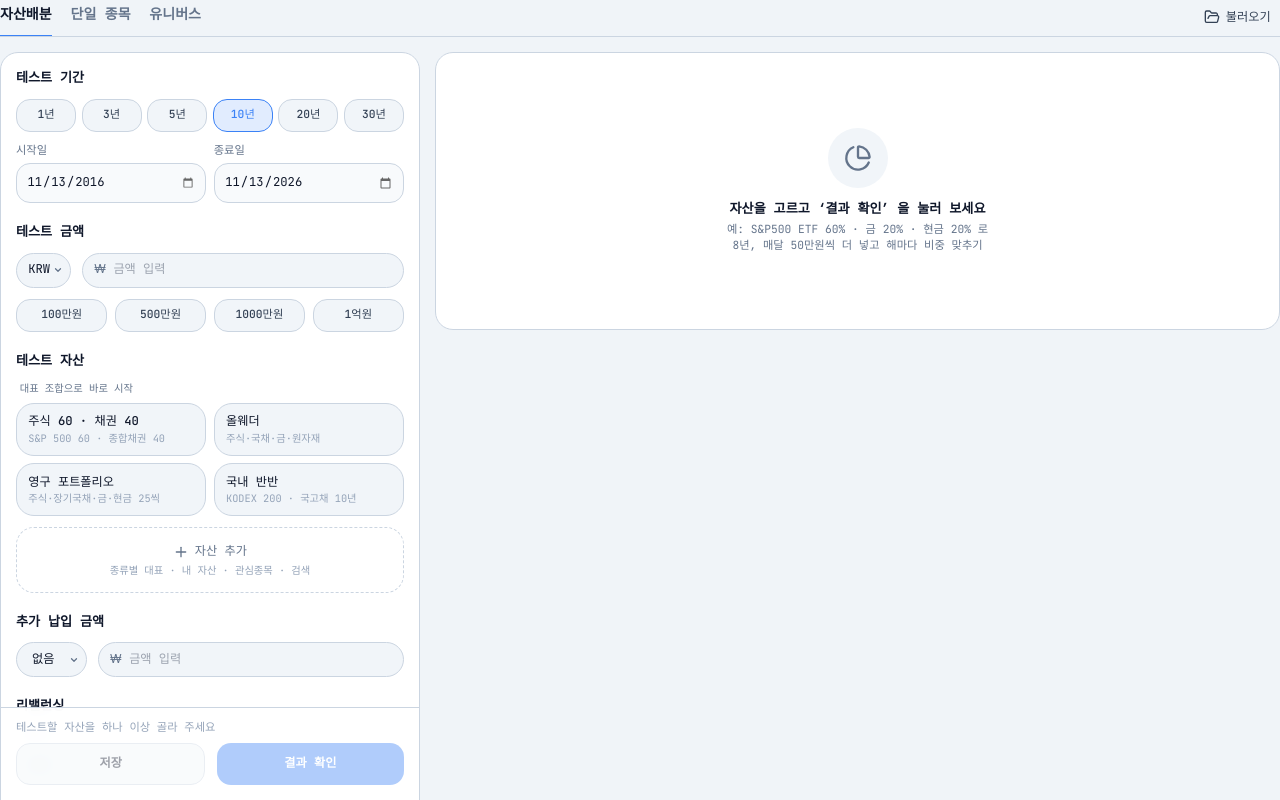
불러오기 창에 둘 다 모인다 › 누르면 창이 닫히고 그 설정이 들어와 있다 — 접힌 고급 설정에도 '바꿈' 이 보인다
Click the button "불러오기" at (1237, 17), box x1=1195 y1=3 x2=1279 y2=32
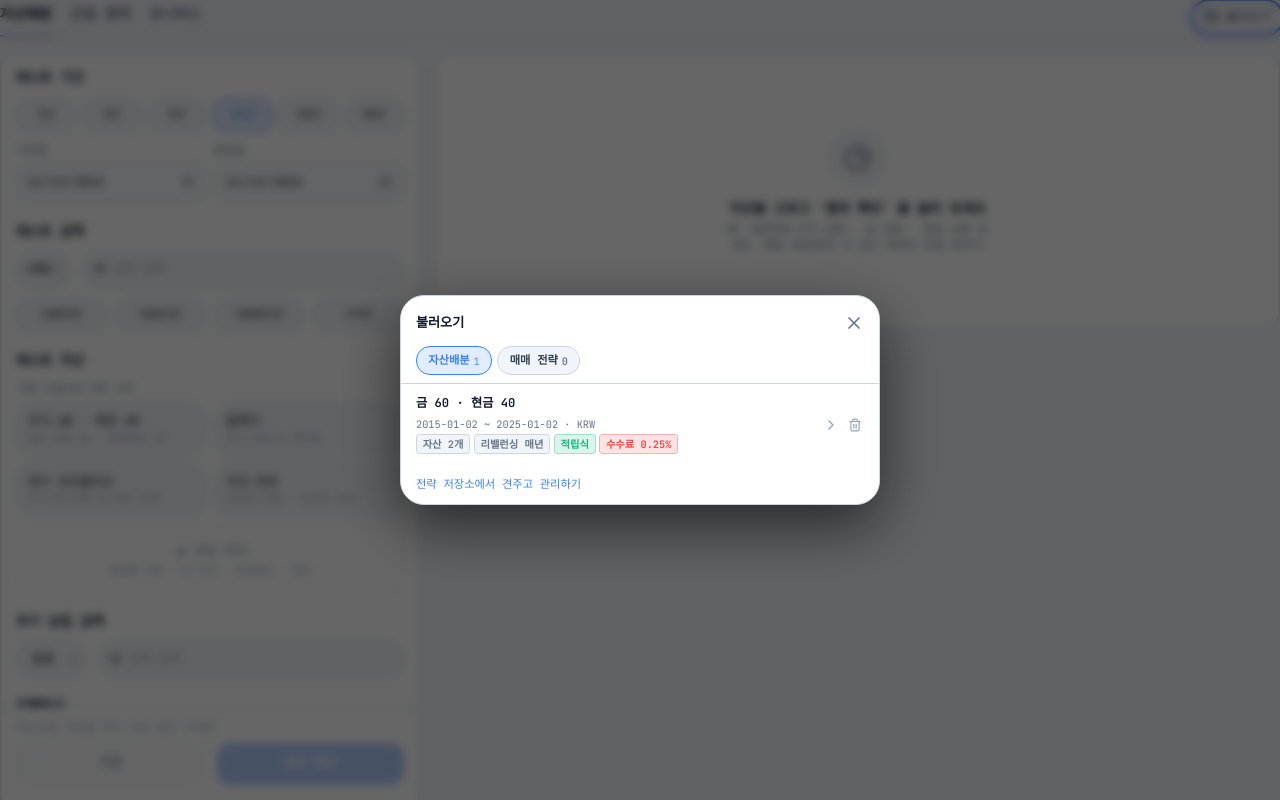
Click the button with aria-label "금 60 · 현금 40 자산배분 실험 열기" at (466, 403), box x1=401 y1=384 x2=842 y2=466
(page scrolled)
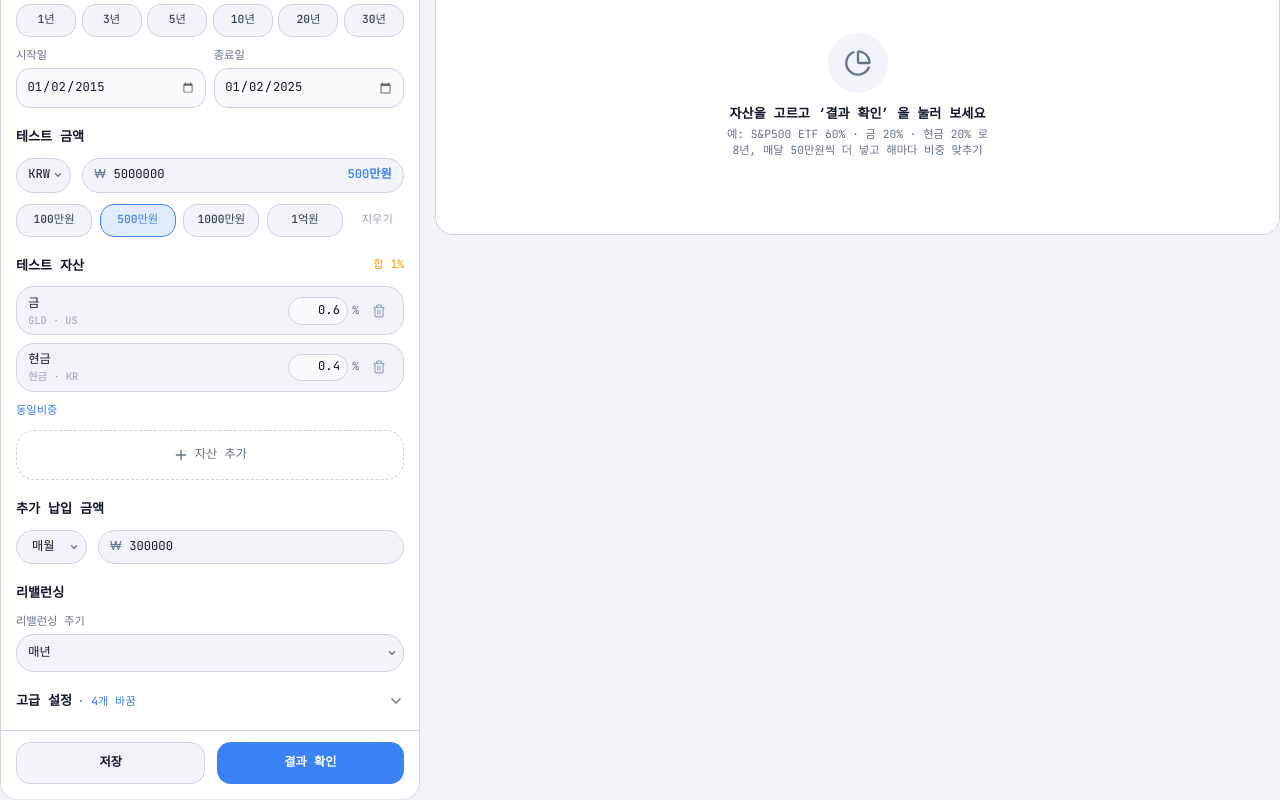
Check: the date field labelled "시작일" holds "2015-01-02", box x1=16 y1=68 x2=206 y2=108
Check: the date field labelled "종료일" holds "2025-01-02", box x1=214 y1=68 x2=404 y2=108
Check: the button "고급 설정· 4개 바꿈" is shown
Click the button "고급 설정· 4개 바꿈" at (44, 701), box x1=16 y1=687 x2=404 y2=715
(page scrolled)
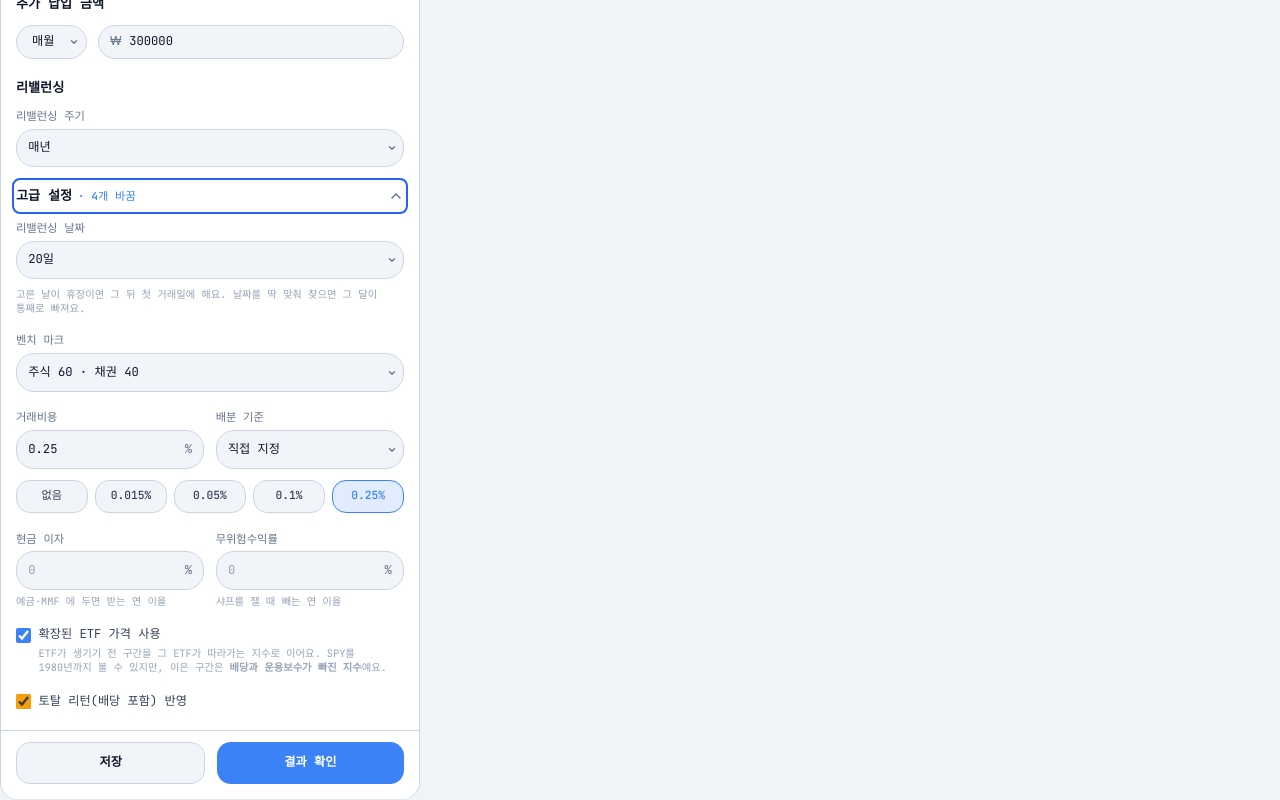
Check: the dropdown labelled "리밸런싱 날짜" shows "20일", box x1=16 y1=240 x2=404 y2=279
Check: the field labelled "거래비용" holds "0.25", box x1=28 y1=431 x2=181 y2=468
Check: the dropdown labelled "벤치 마크" shows "주식 60 · 채권 40", box x1=16 y1=353 x2=404 y2=392
